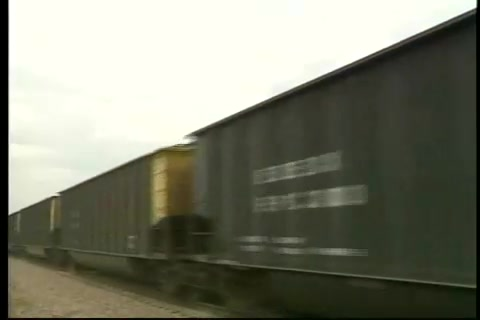train: (11, 7, 480, 308)
